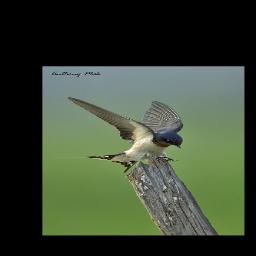Swallow: (54, 95, 184, 172)
